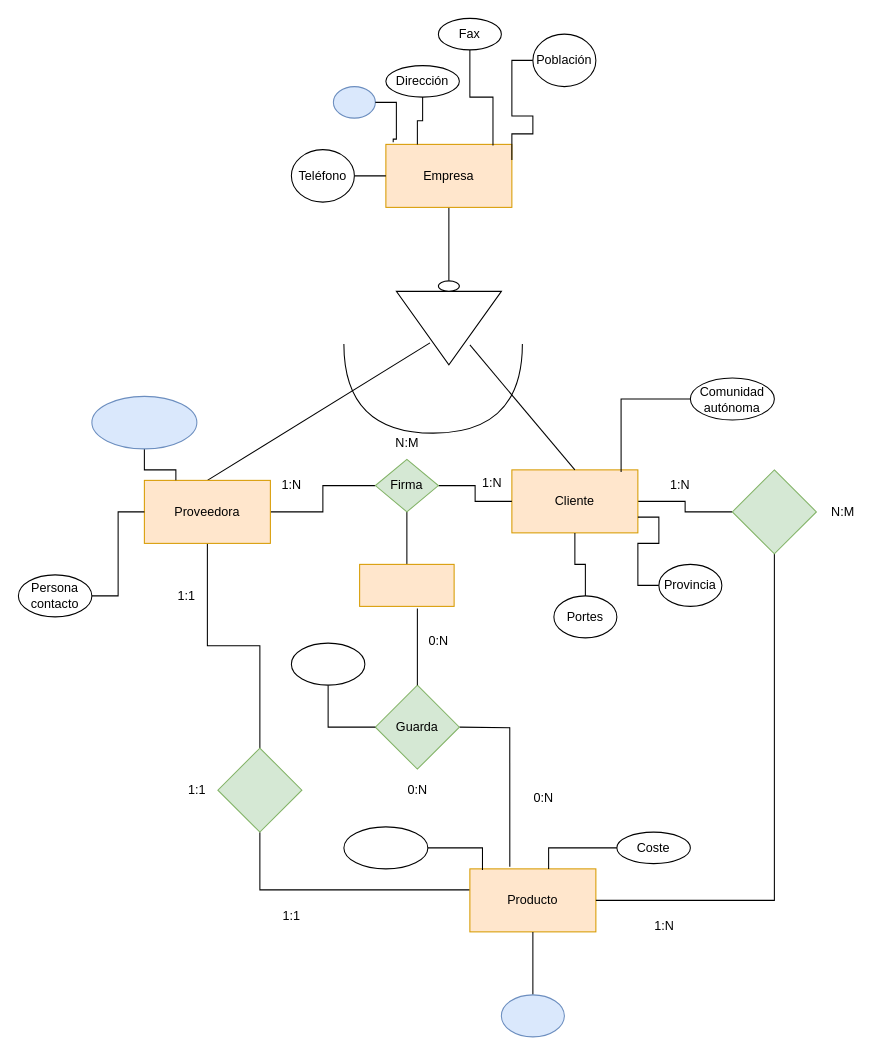
Some shapes in this 887 by 1055 pixel diagram are drawn without their labels. The centre of each missing label's shape, as x and y in pixels:
Acuerdo: (406,584)
CIF internacional: (144,422)
Compra: (773,511)
Código: (532,1015)
Descripción: (385,847)
NIF: (353,102)
Porcentaje descuento: (327,663)
Provee: (259,789)
